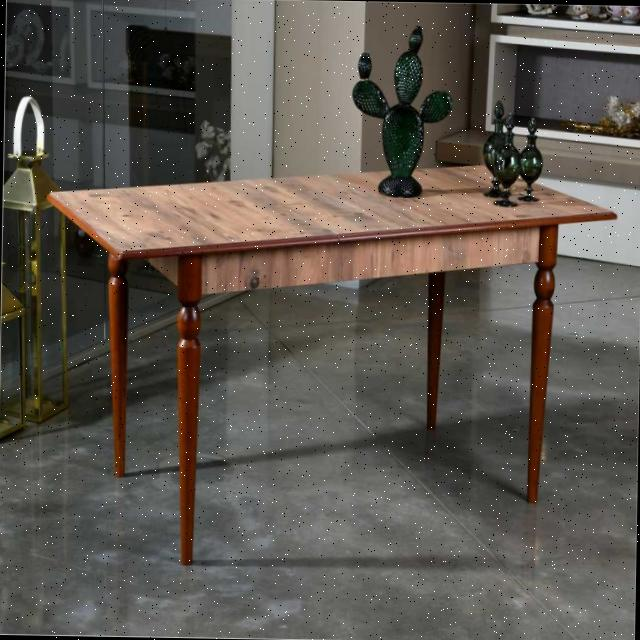Table: (21, 93, 636, 588)
